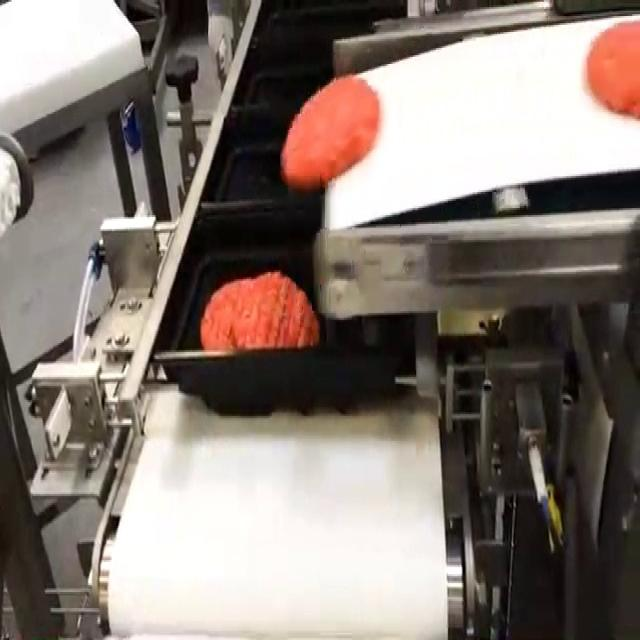hamburguer: (281, 78, 380, 185)
